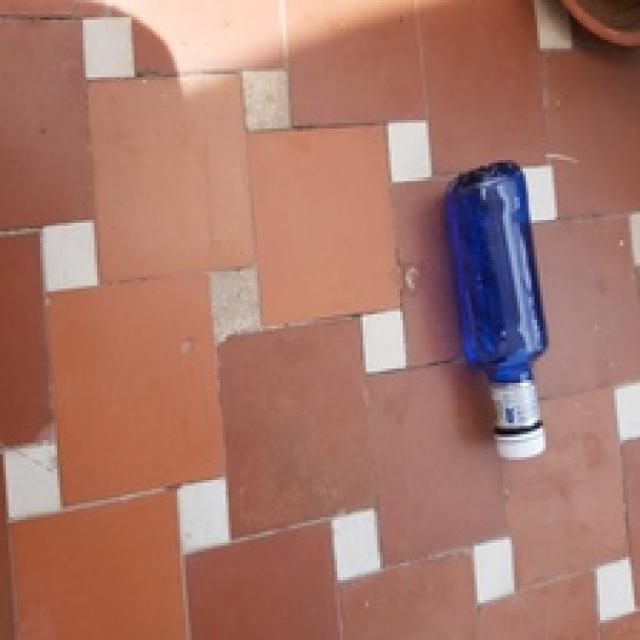plastic: (433, 151, 565, 473)
